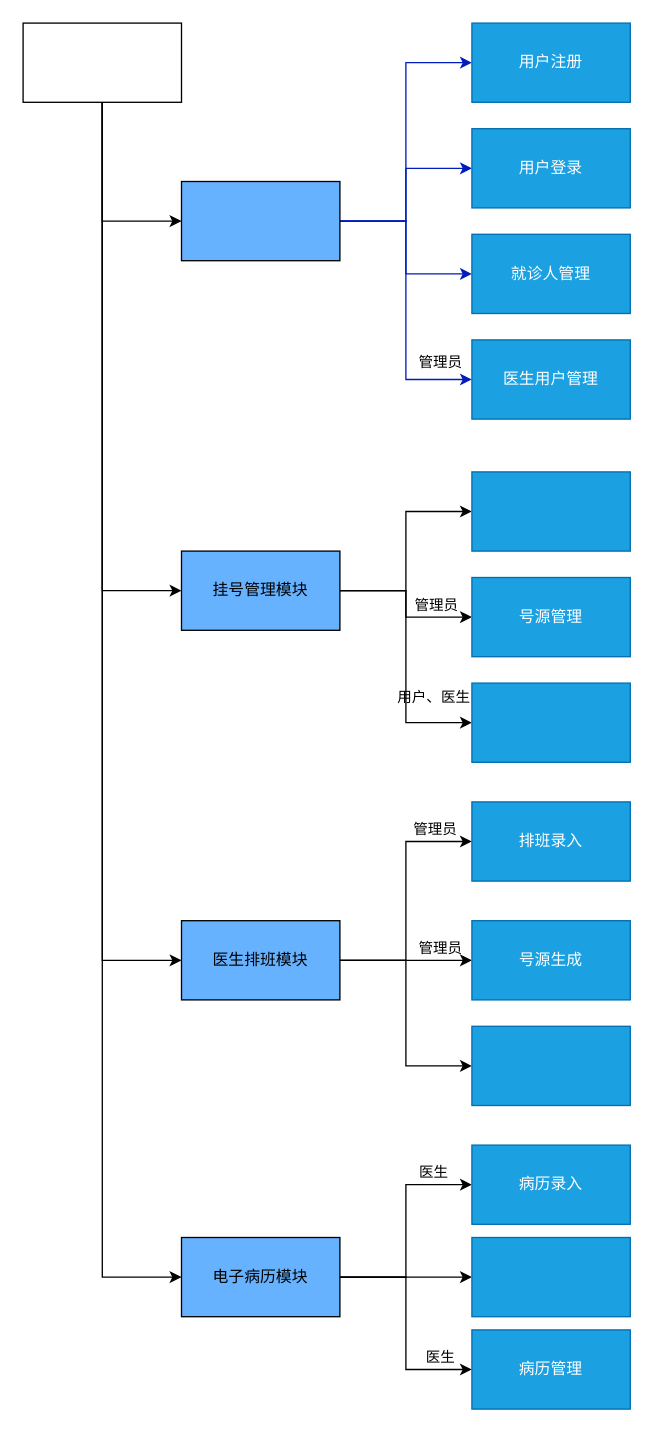
The diagram is 653 pixels wide and 1432 high, and some of its shapes have lost their labels. Each missing label, with the centre of its shape:
"挂号记录查询" belongs at (550,722).
"排班查询" belongs at (550,1065).
"用户管理模块" belongs at (260,220).
"病历查询" belongs at (550,1276).
"系统" belongs at (102,62).
"预约挂号" belongs at (550,511).
